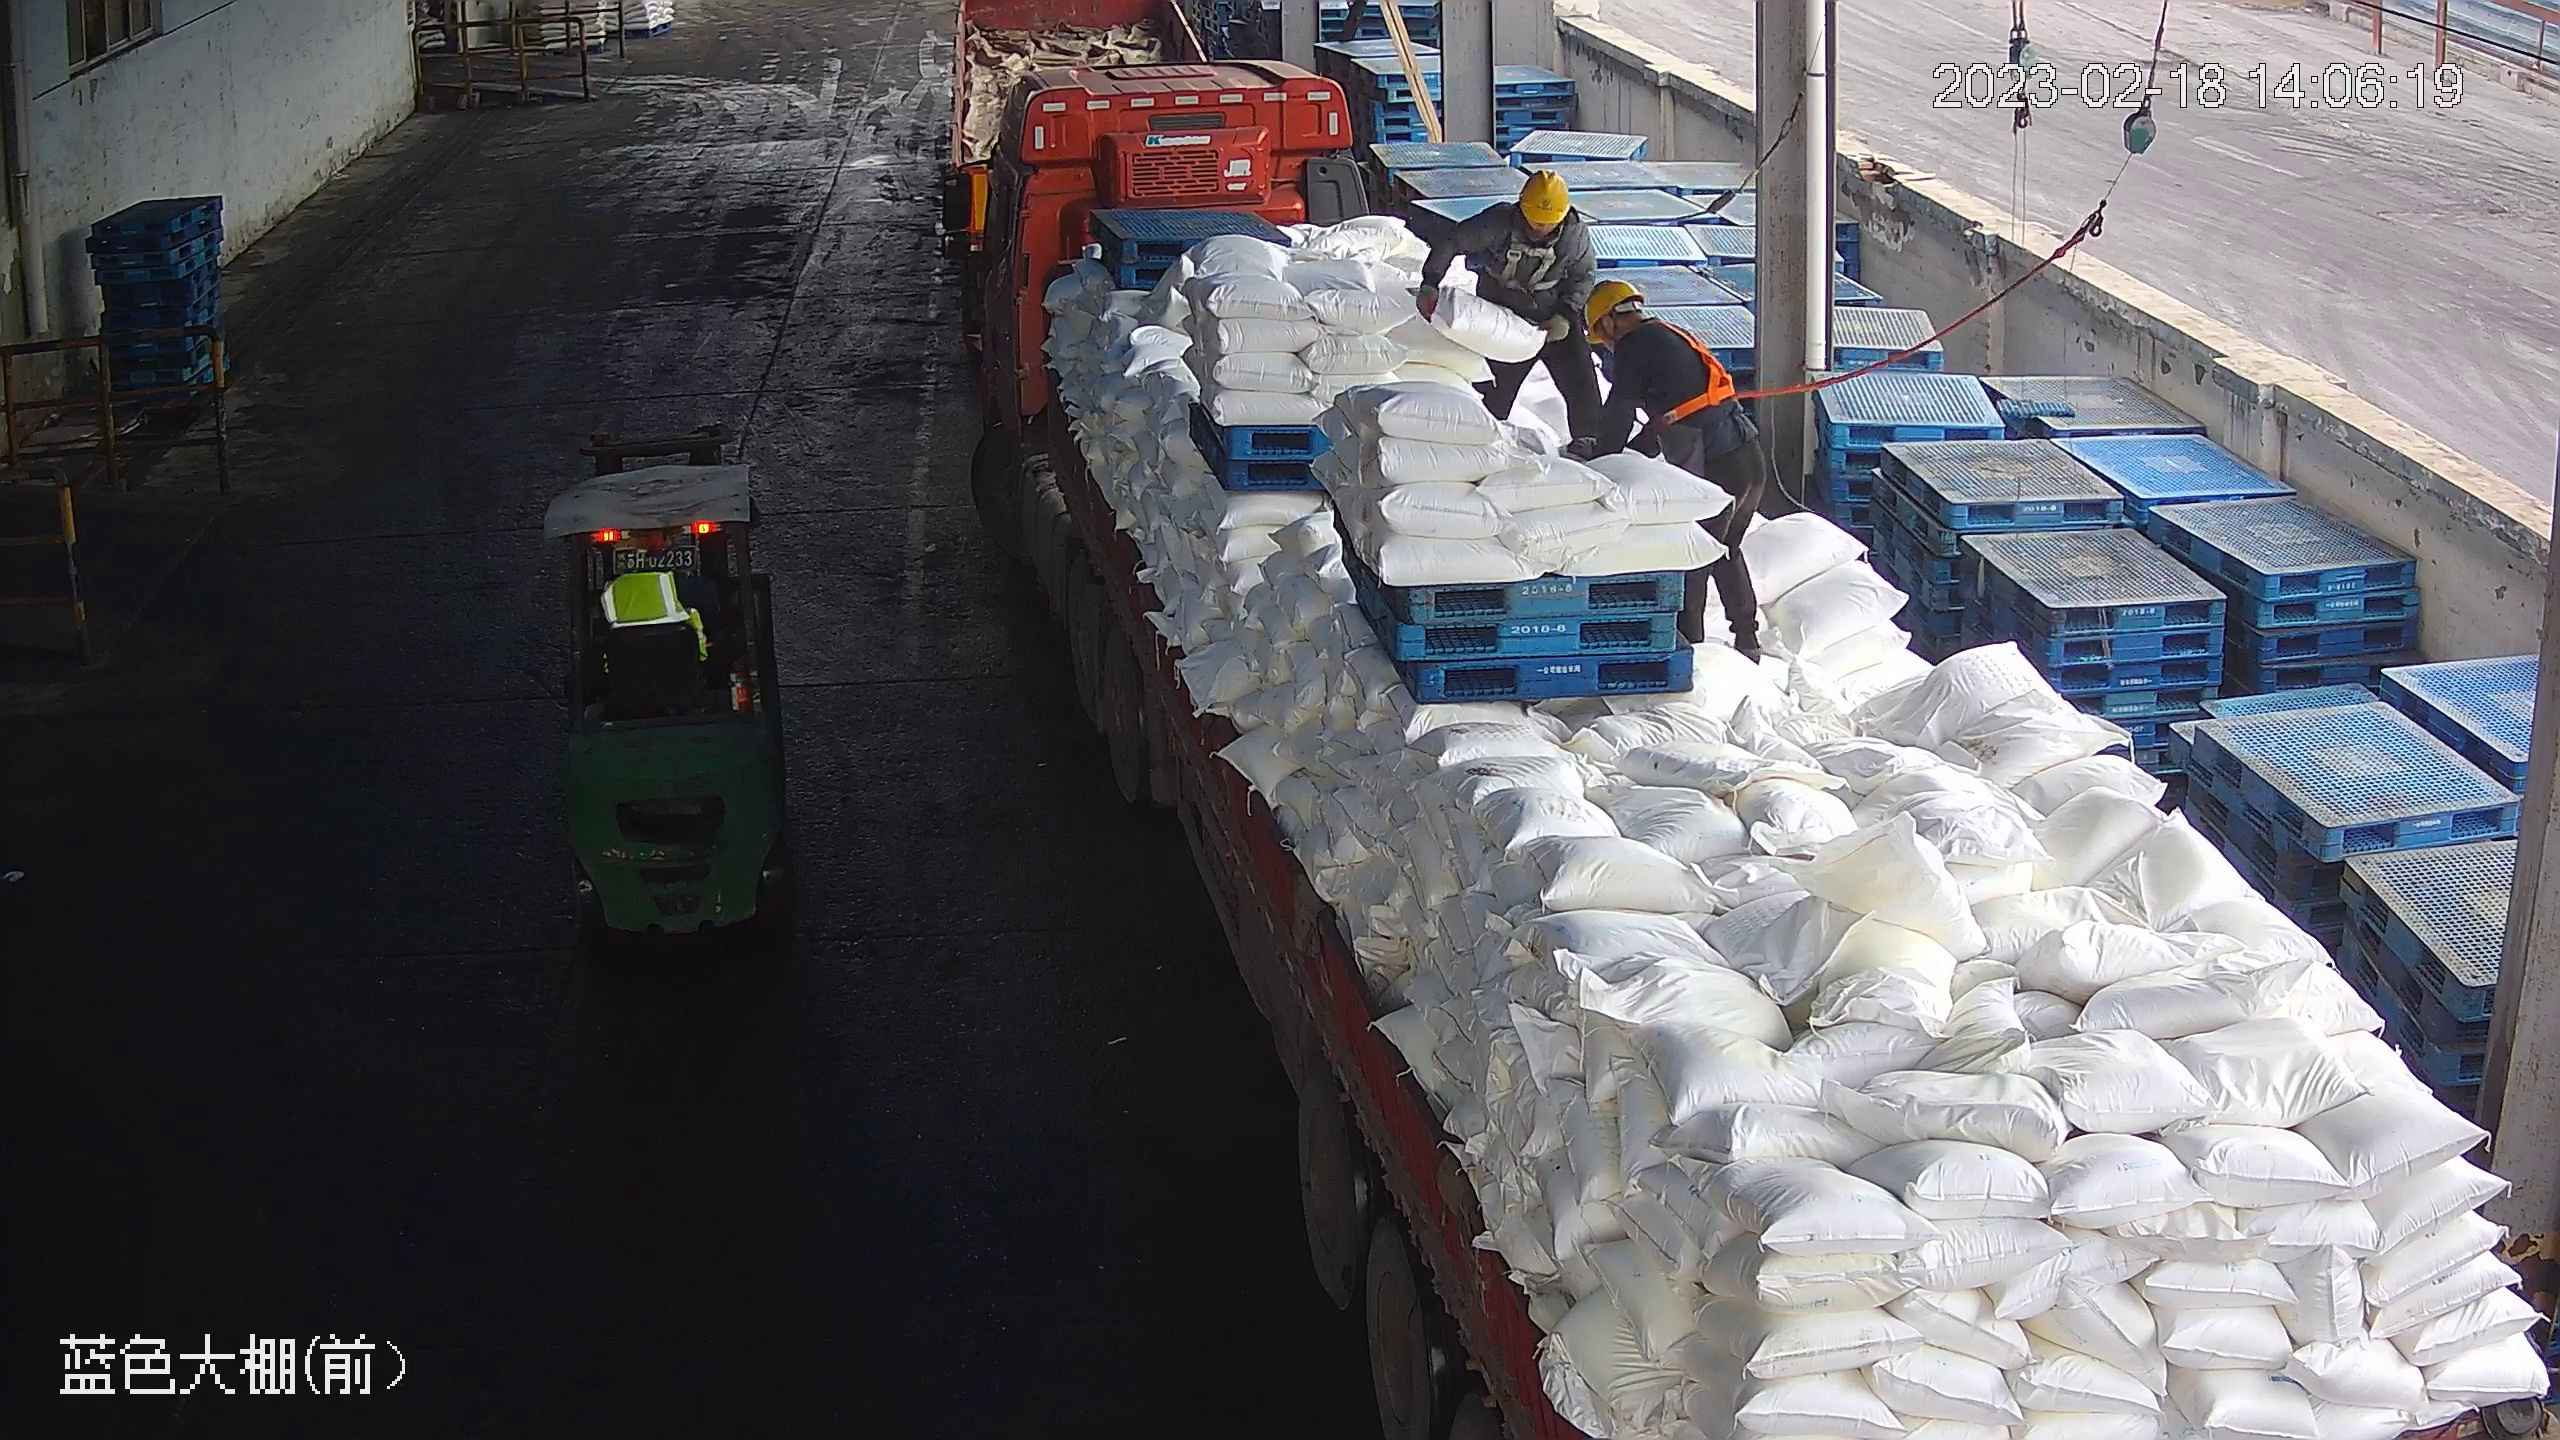belt: (1639, 319, 1744, 426), (1495, 211, 1577, 289)
head: (1584, 275, 1711, 378), (1474, 166, 1588, 257)
helmet: (1580, 277, 1646, 340), (1516, 166, 1572, 229)
people: (1589, 275, 1769, 665), (1420, 165, 1601, 454)
truck: (955, 49, 2549, 1440)
